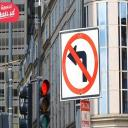NoVirarEsquerda: (60, 31, 100, 96)
